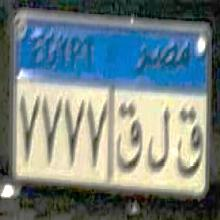7: (18, 90, 40, 164), (64, 97, 85, 165), (42, 92, 61, 165), (88, 101, 108, 169)
laam: (147, 101, 171, 174)
qaaf: (174, 104, 204, 182), (114, 99, 145, 174)
